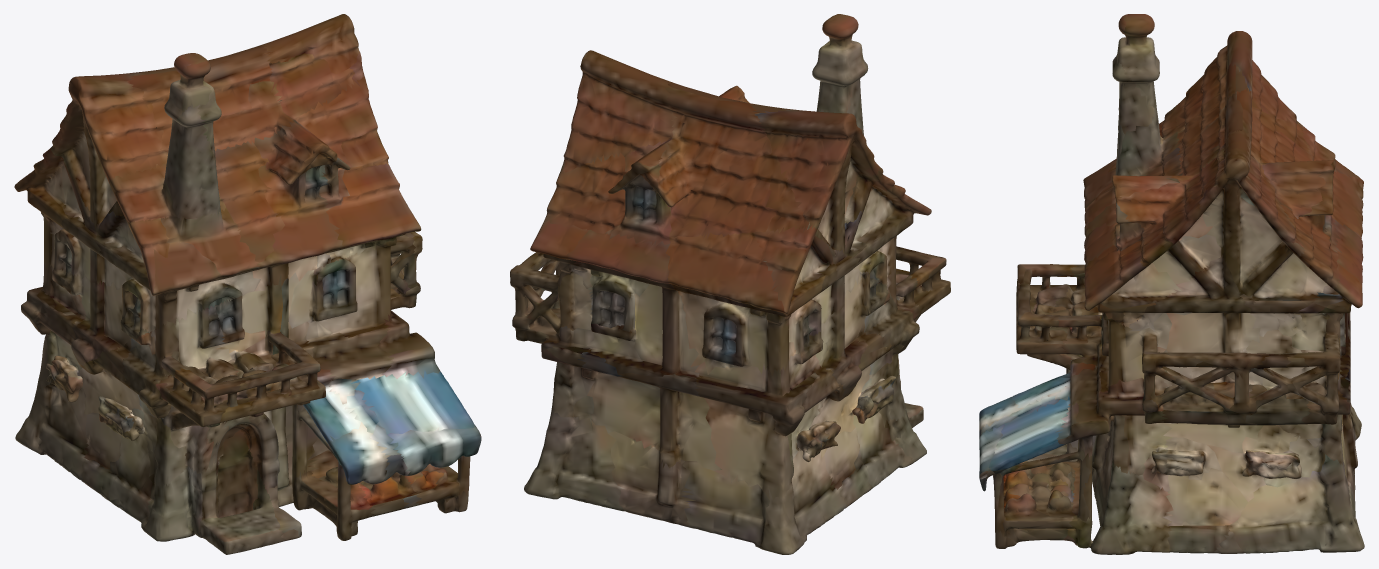
The model's file is building 2.glb.
3 views of the same model, side by side, from view 1: azimuth 30°, elevation 25°; view 2: azimuth 150°, elevation 25°; view 3: azimuth 270°, elevation 25° (orthographic). The views are drawn at different scales.
Parts seen in each view (by area): view 1: Mesh_0; view 2: Mesh_0; view 3: Mesh_0.
Part boxes in pixels (x1=…): Mesh_0: x1=14, y1=14, x2=481, y2=554; Mesh_0: x1=510, y1=14, x2=950, y2=554; Mesh_0: x1=979, y1=14, x2=1364, y2=554.
Bounding box in the file's own units: 0.4673 × 0.6684 × 0.5333.
Materials: 1 (1 with a texture image).
